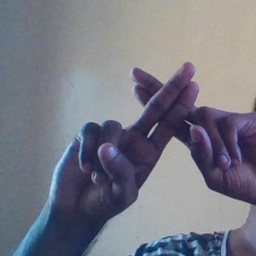F: (90, 54, 242, 184)
